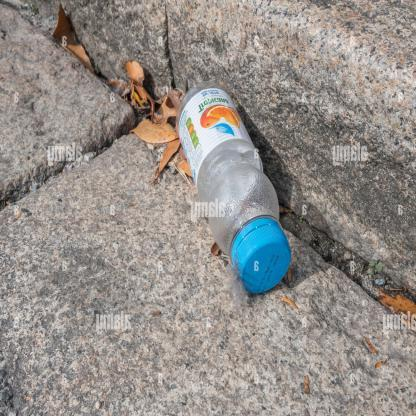Plastic: (173, 80, 296, 296)
